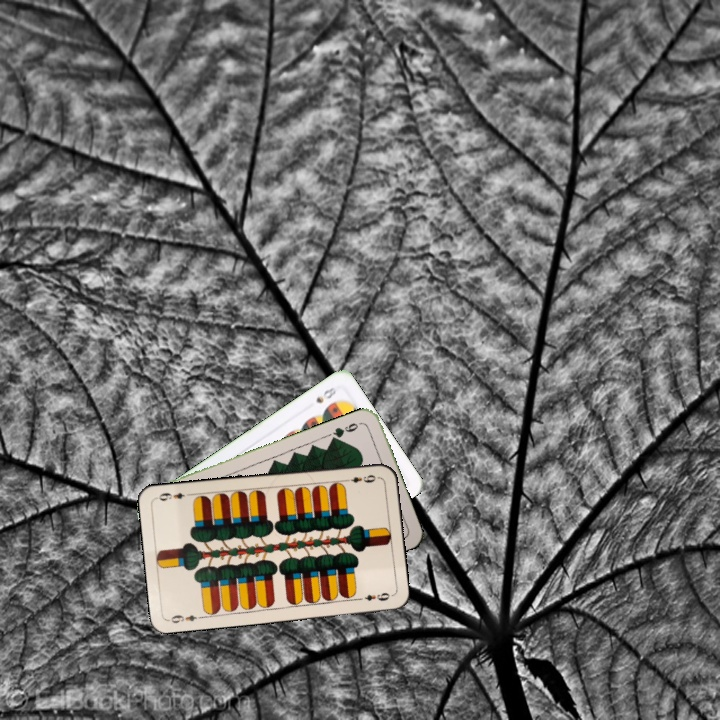E9: (165, 611, 206, 626), (341, 471, 378, 485)
G9: (327, 418, 365, 443)
S8: (312, 383, 338, 406)
